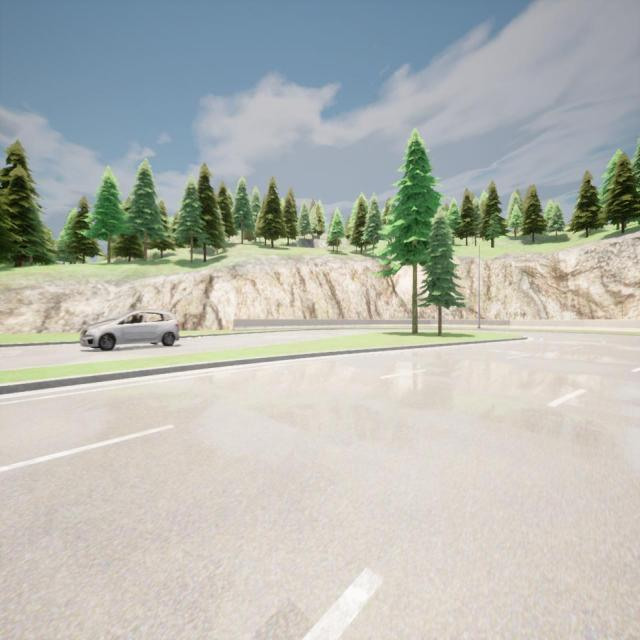Vehicle: (80, 310, 180, 350)
